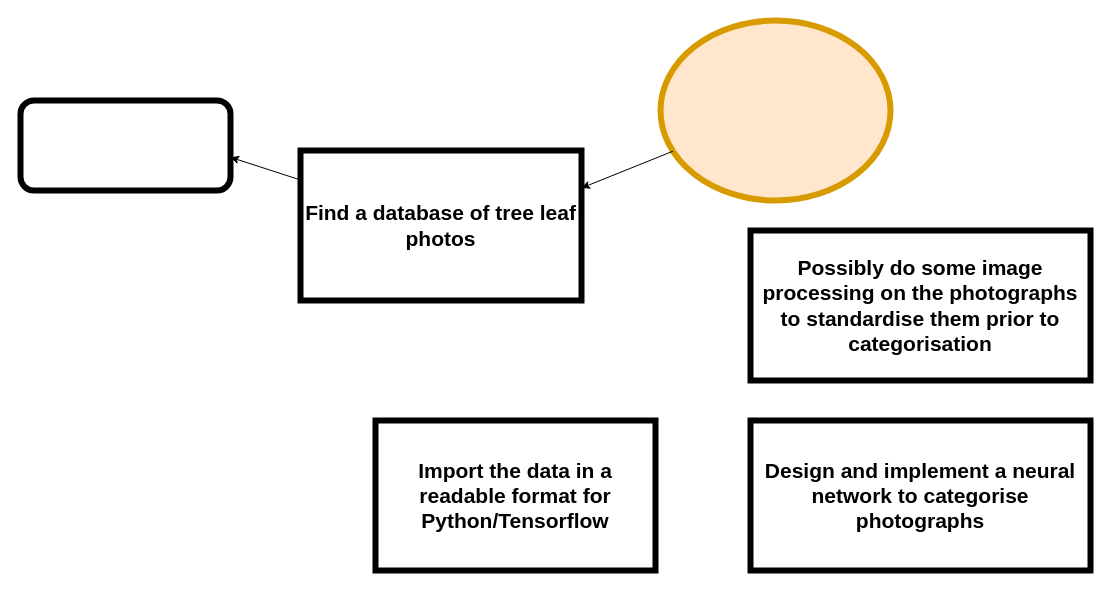
Some shapes in this 1110 by 590 pixel diagram are drawn without their labels. Each missing label, with the centre of its shape:
Found and downloaded a dataset from kaggle: point (125, 145)
Goal: Identify tree species based on photos of leaves: point (775, 110)
